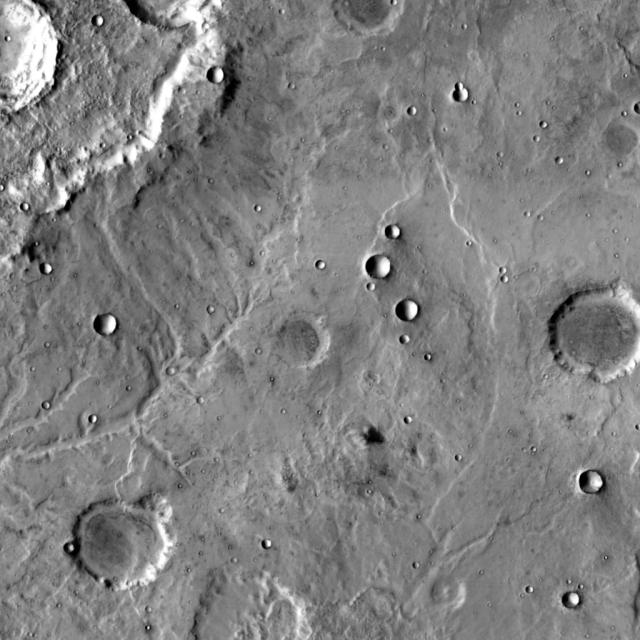crater: (81, 500, 176, 592), (0, 0, 69, 116), (559, 285, 640, 381), (199, 575, 313, 640), (477, 297, 554, 371), (282, 318, 340, 373), (343, 0, 412, 41), (606, 122, 640, 165), (144, 492, 181, 528), (440, 579, 473, 610), (375, 256, 399, 280), (102, 315, 126, 338), (589, 470, 612, 492), (405, 301, 427, 323), (571, 590, 588, 608), (215, 68, 233, 85), (462, 88, 477, 104), (393, 227, 408, 241), (48, 264, 60, 277), (100, 17, 112, 28), (72, 543, 84, 553), (324, 261, 334, 271), (573, 258, 583, 268), (408, 336, 418, 345), (271, 542, 280, 552), (175, 369, 184, 377), (416, 108, 425, 116), (215, 307, 223, 315), (503, 268, 511, 276), (464, 83, 472, 91), (43, 394, 51, 402), (30, 205, 38, 212), (5, 186, 13, 193), (376, 283, 383, 291), (407, 410, 414, 418), (254, 200, 262, 207), (425, 347, 432, 354), (542, 116, 550, 122), (90, 410, 98, 416), (557, 152, 564, 158), (527, 580, 534, 586), (199, 392, 206, 398), (414, 556, 421, 562), (456, 448, 463, 454), (146, 602, 152, 608)
